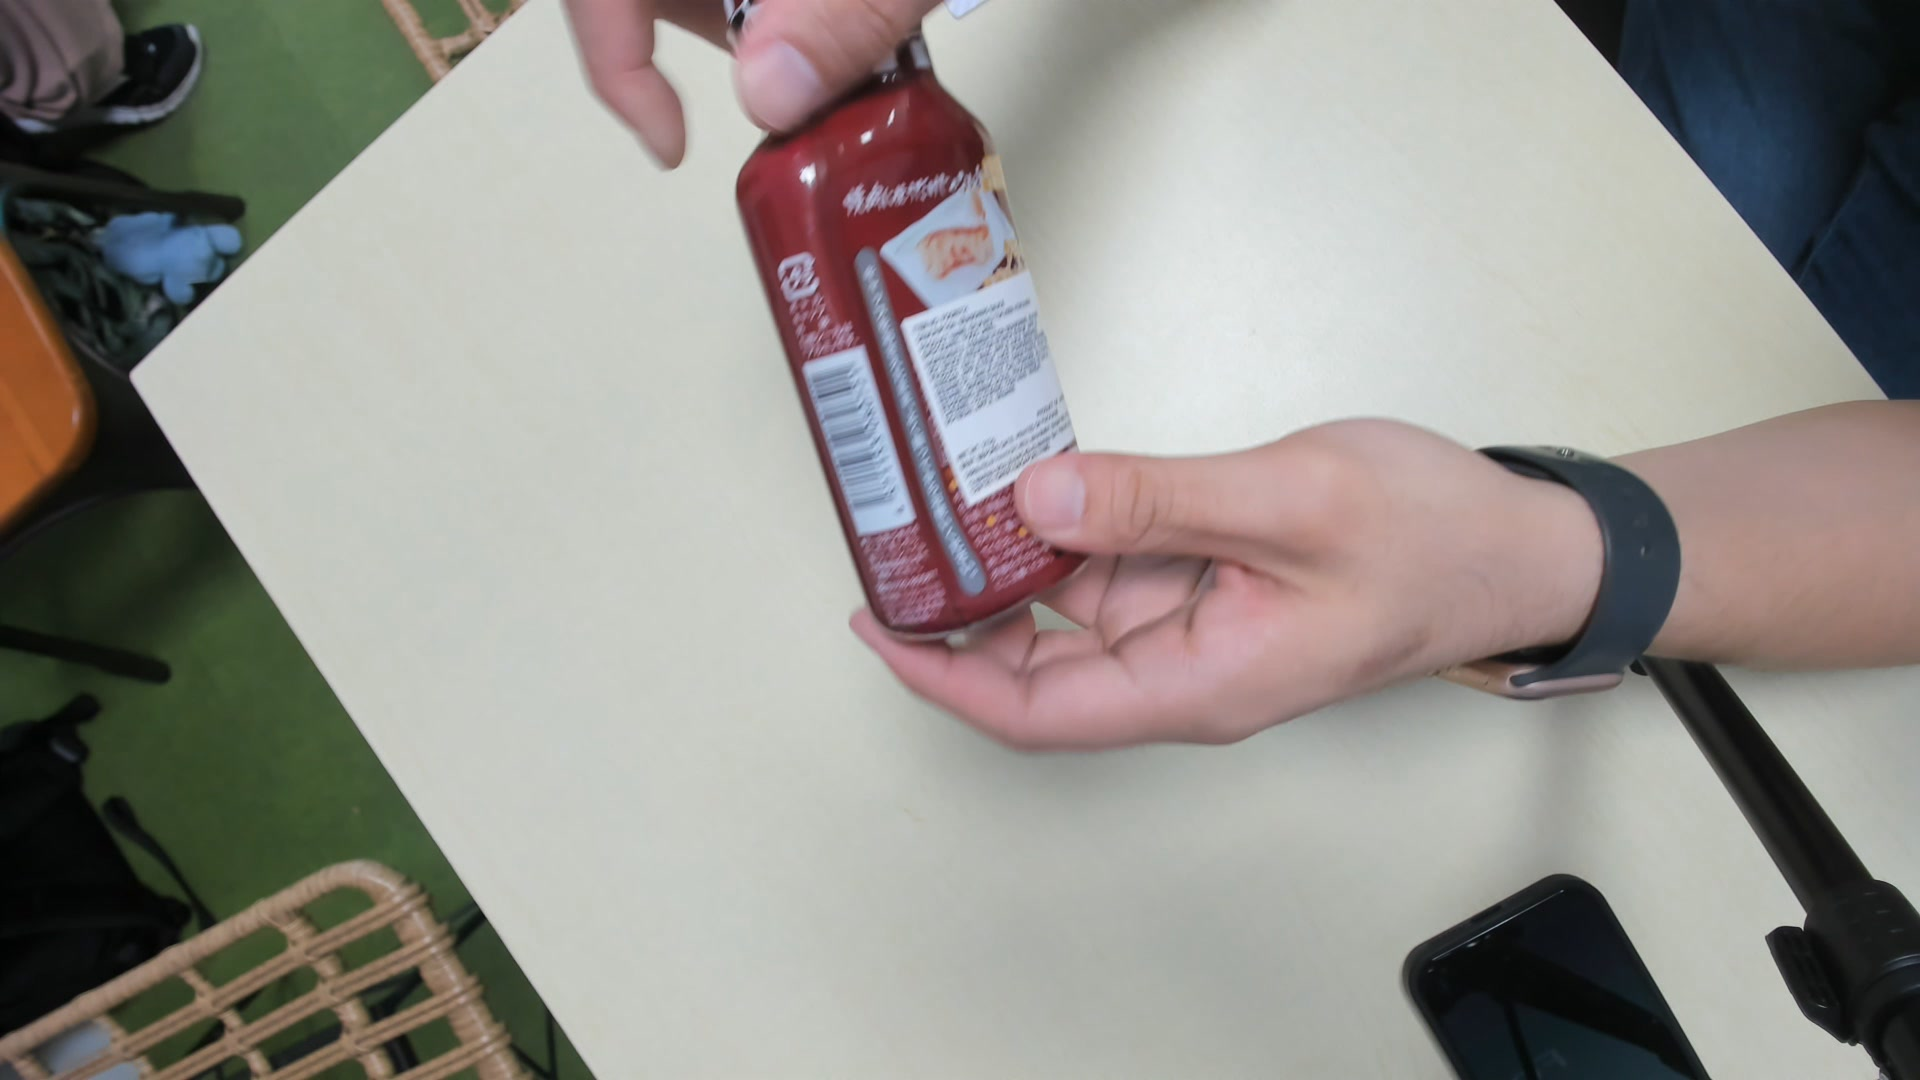OtherSauceDressing_200-299g_NonHalal_NonHealthy: (735, 8, 1102, 641)
